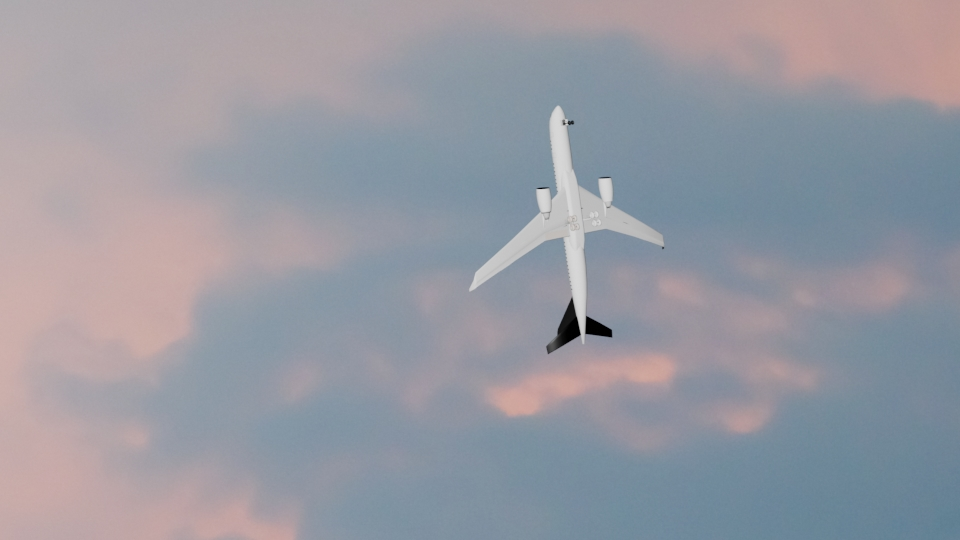plane: (467, 104, 669, 358)
